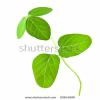Soyabean leaf: (31, 53, 60, 89), (57, 32, 93, 58), (25, 15, 52, 41), (15, 16, 28, 40), (27, 6, 54, 17)
